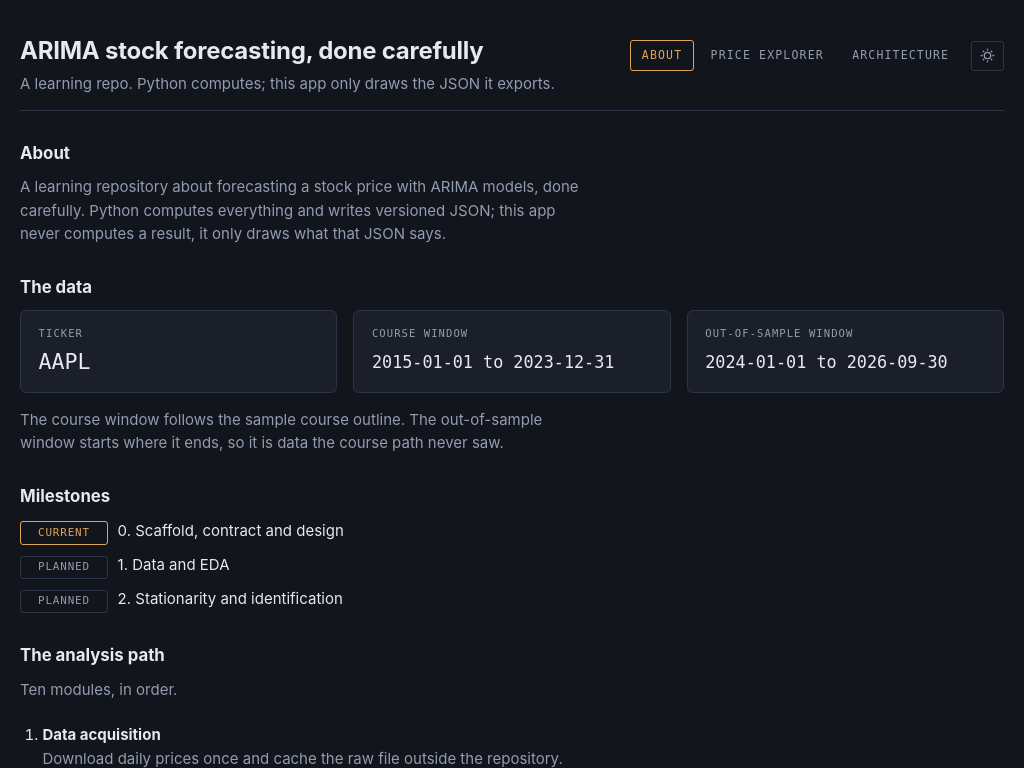
Scenario: App (integration) › shows a missing data file as a real error, even one an old meta.json lists as held
The width and height of the screenshot is (1024, 768).
Expected: the text "AAPL" is shown, x1=39 y1=348 x2=91 y2=374
Click the link "Price explorer". click: (767,55)
box: x1=711 y1=48 x2=824 y2=62
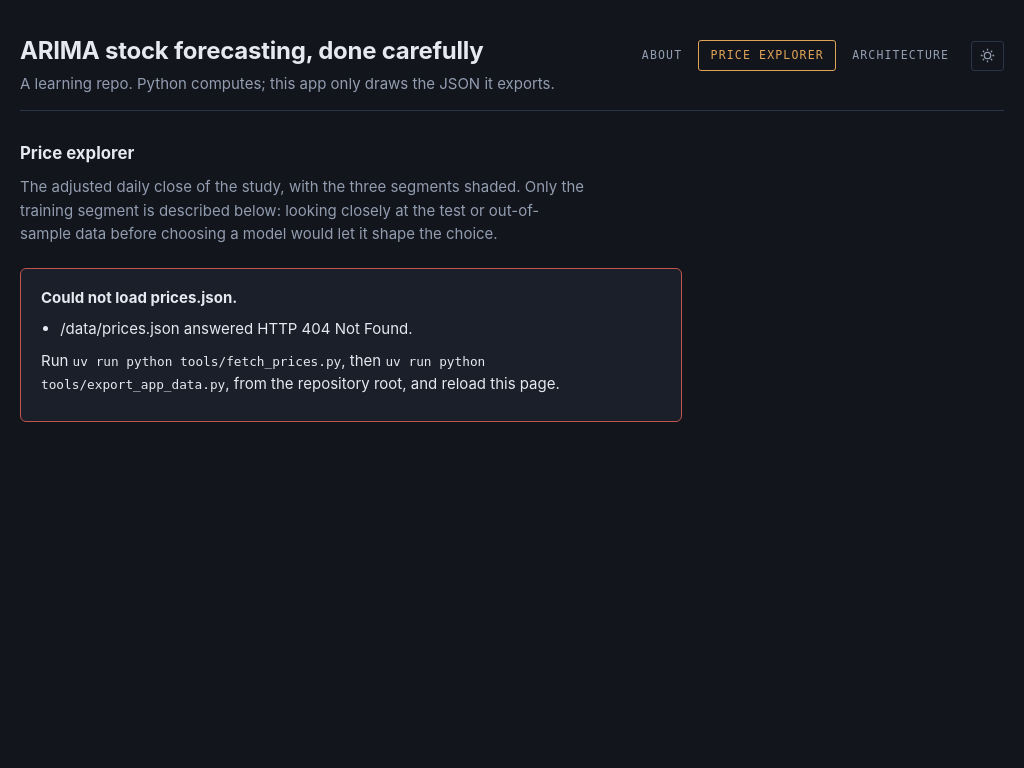
Now the message shows "Could not load prices.json.", box x1=20 y1=268 x2=682 y2=422
Now the text "uv run python tools/export_app_data.py" is shown, box x1=41 y1=354 x2=485 y2=392
